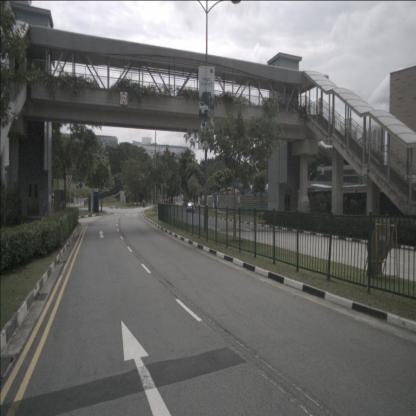vehicle-bus-rigid: (165, 195, 170, 203)
vehicle-car: (186, 202, 194, 213), (183, 198, 187, 206)
vehicle-motorcycle: (142, 200, 146, 208)
